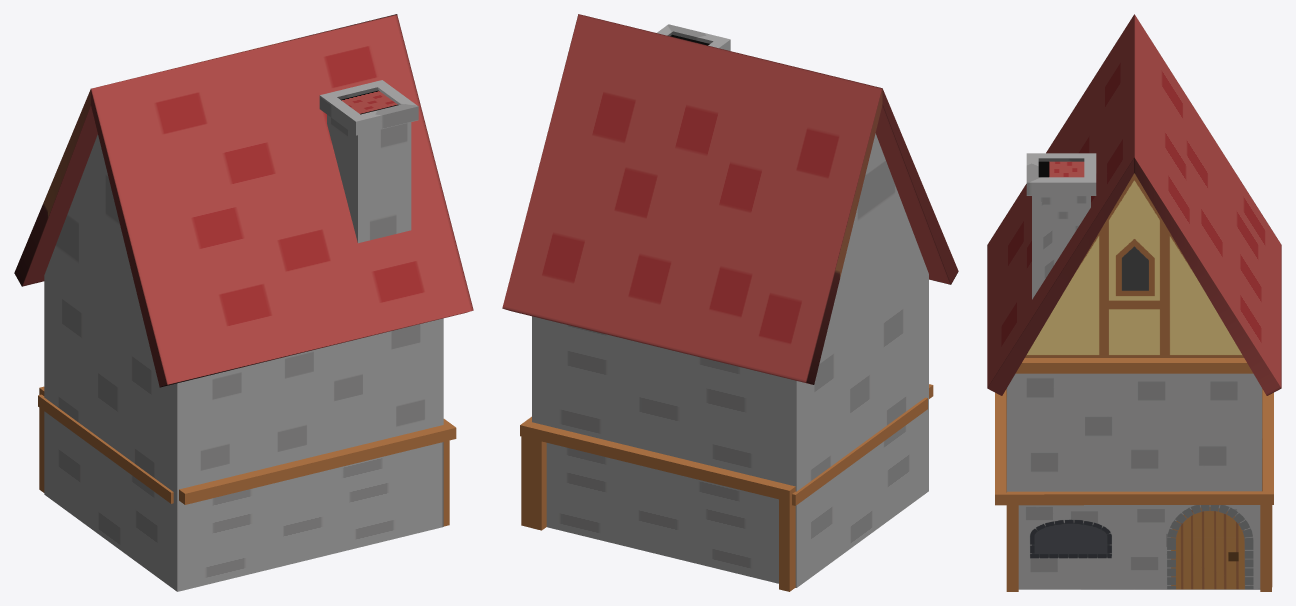
File: hurt house.fbx
3 renders of one model, left to right at view 1: azimuth 30°, elevation 25°; view 2: azimuth 150°, elevation 25°; view 3: azimuth 270°, elevation 25°, orthographic. The views are drawn at different scales.
Parts seen in each view (by area): view 1: Cylinder.001; view 2: Cylinder.001; view 3: Cylinder.001.
Boxes of the visible parts, <box> form: Cylinder.001: <box>14,14,473,591</box>; Cylinder.001: <box>502,14,958,591</box>; Cylinder.001: <box>987,14,1281,591</box>.
Size of the model in its own units: 460 by 659 by 398.
